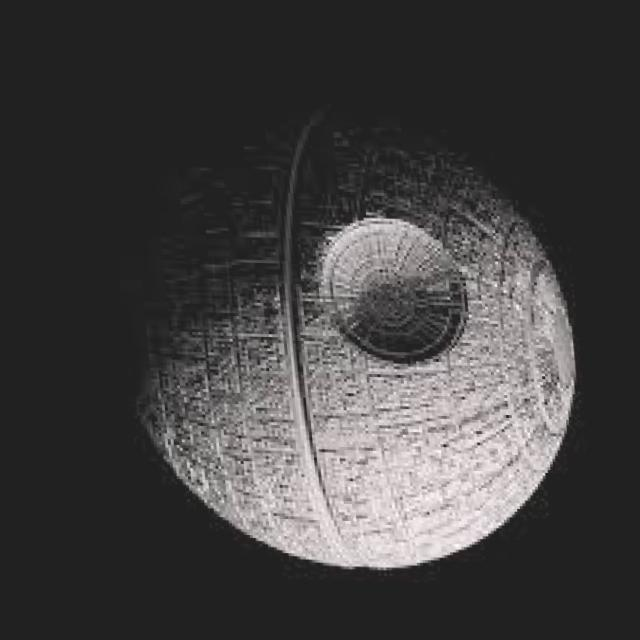deathStar: (103, 115, 579, 571)
